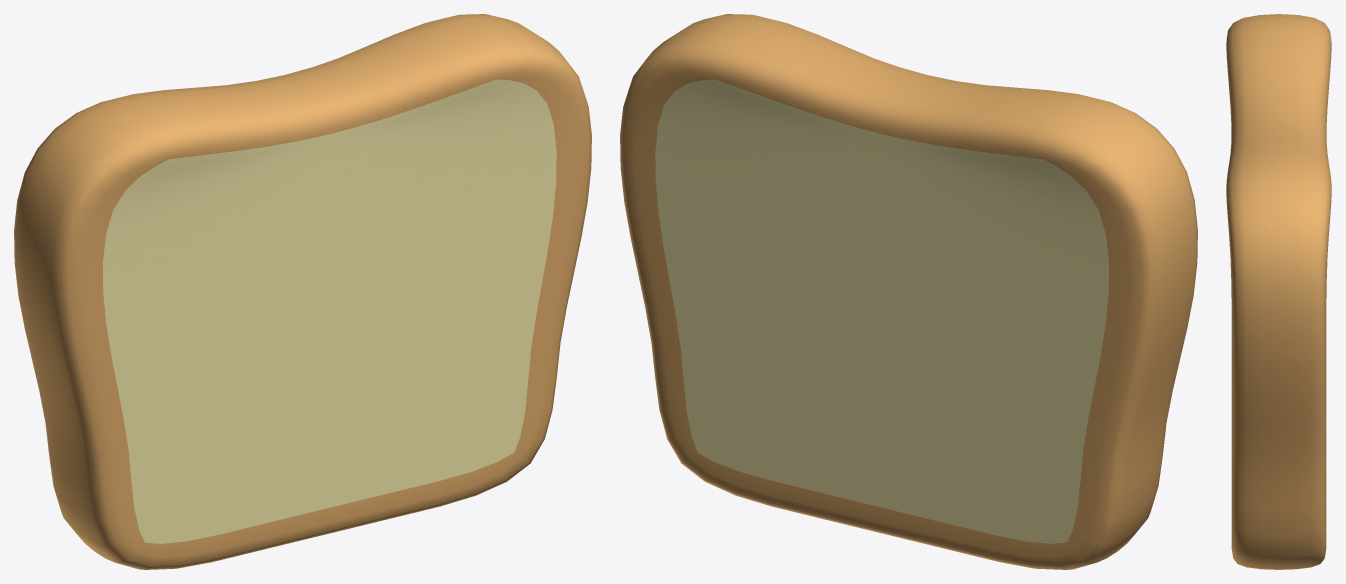
Rendered from bread.fbx.
3 views of the same model, side by side, from view 1: azimuth 30°, elevation 25°; view 2: azimuth 150°, elevation 25°; view 3: azimuth 270°, elevation 25° (orthographic). The views are drawn at different scales.
Visible parts, largest first — view 1: bread1; view 2: bread1; view 3: bread1.
Part boxes in pixels (left/top/right/bottom): bread1: left=14, top=14, right=591, bottom=569; bread1: left=620, top=14, right=1197, bottom=569; bread1: left=1226, top=14, right=1331, bottom=569.
Bounding box in the file's own units: 22.24 × 17.79 × 4.24.
Materials: 2 (2 with a texture image).
